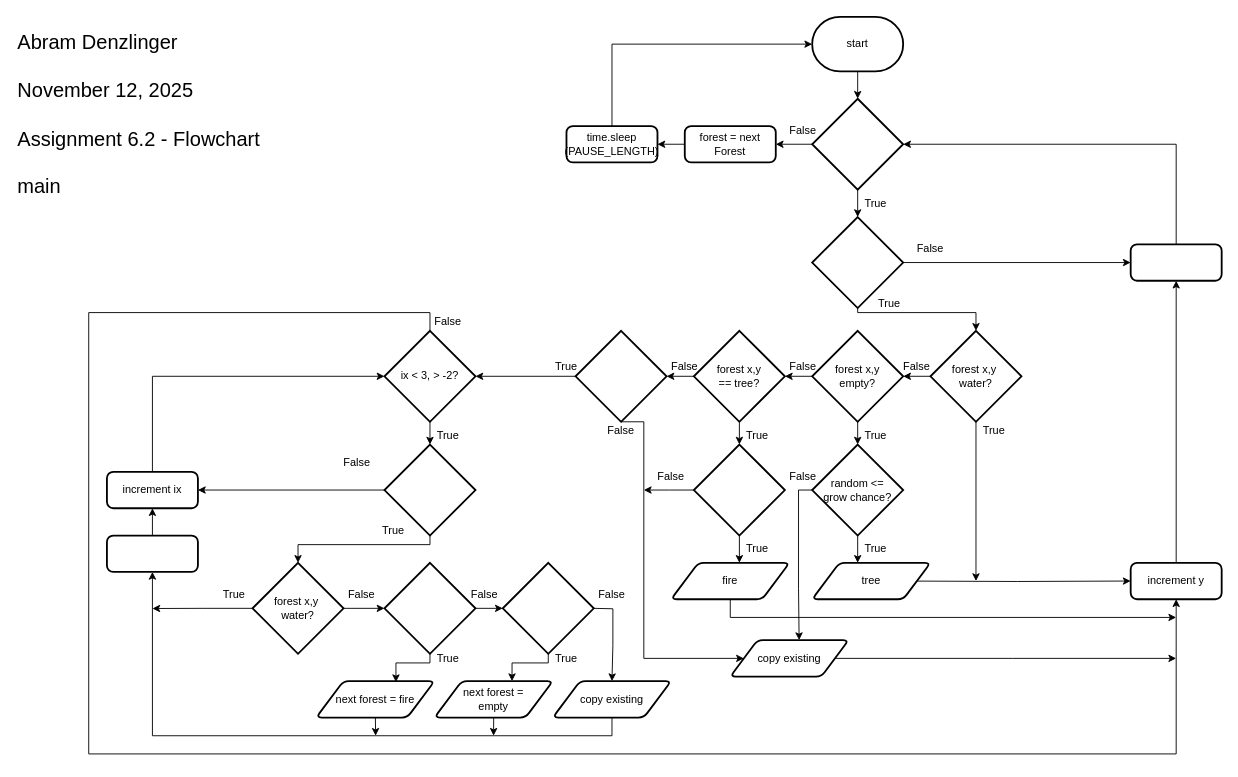
The diagram is 1238 pixels wide and 777 high, and some of its shapes have lost their labels. The shapes that lost their labels are listed below. From the top down, each one's box as (x1, y1, x2, y2) in pixels, then its label:
(811, 97, 904, 190): x < width?
(811, 216, 904, 308): y < height?
(1129, 243, 1222, 281): increment x
(574, 329, 667, 422): forest x,y == fire?
(383, 443, 476, 536): iy < 3, > -2?
(693, 443, 785, 536): random <= fire?
(106, 534, 198, 572): increment iy
(383, 561, 476, 654): x+ix, y+iy == tree?
(501, 561, 594, 654): x+ix, y+iy == fire?
